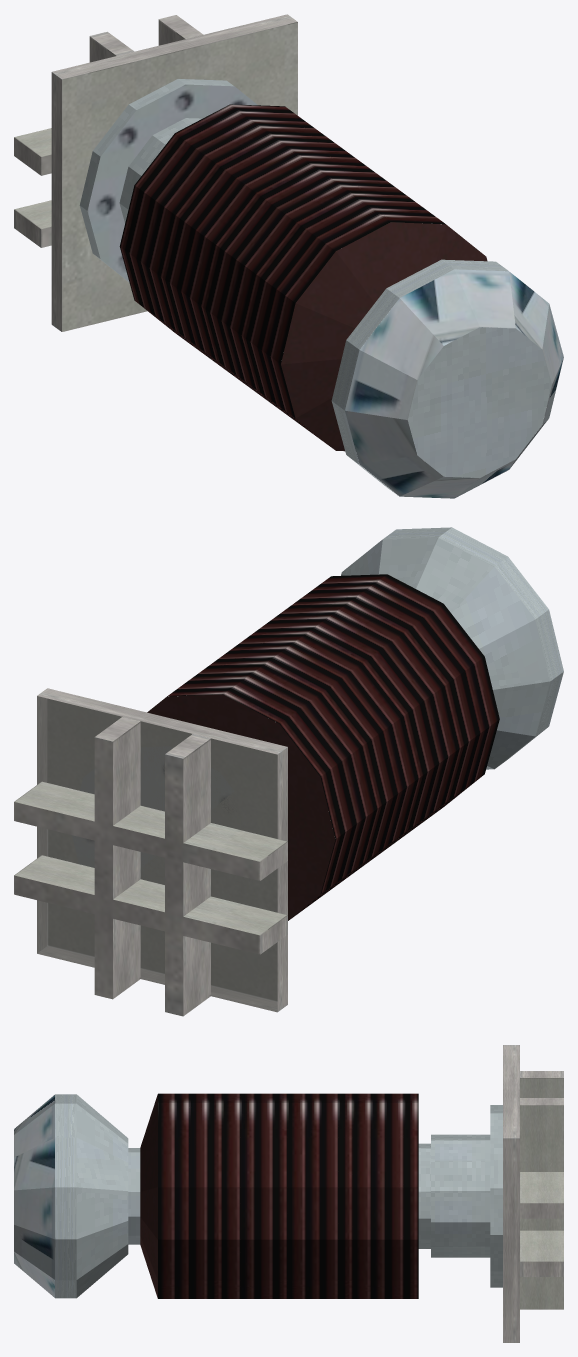
File: jydz049-geode.glb
3 views of the same model, one above another, from view 1: azimuth 30°, elevation 25°; view 2: azimuth 150°, elevation 25°; view 3: azimuth 270°, elevation 25° (orthographic). The views are drawn at different scales.
Parts seen in each view (by area): view 1: Node; view 2: Node; view 3: Node.
Boxes of the visible parts, x1,y1,x2,y2 form: Node: [14, 14, 563, 498]; Node: [14, 527, 563, 1016]; Node: [14, 1045, 563, 1342].
Size of the model in its own units: 0.2367 by 0.2321 by 0.5655.
Materials: 5 (5 with a texture image).
